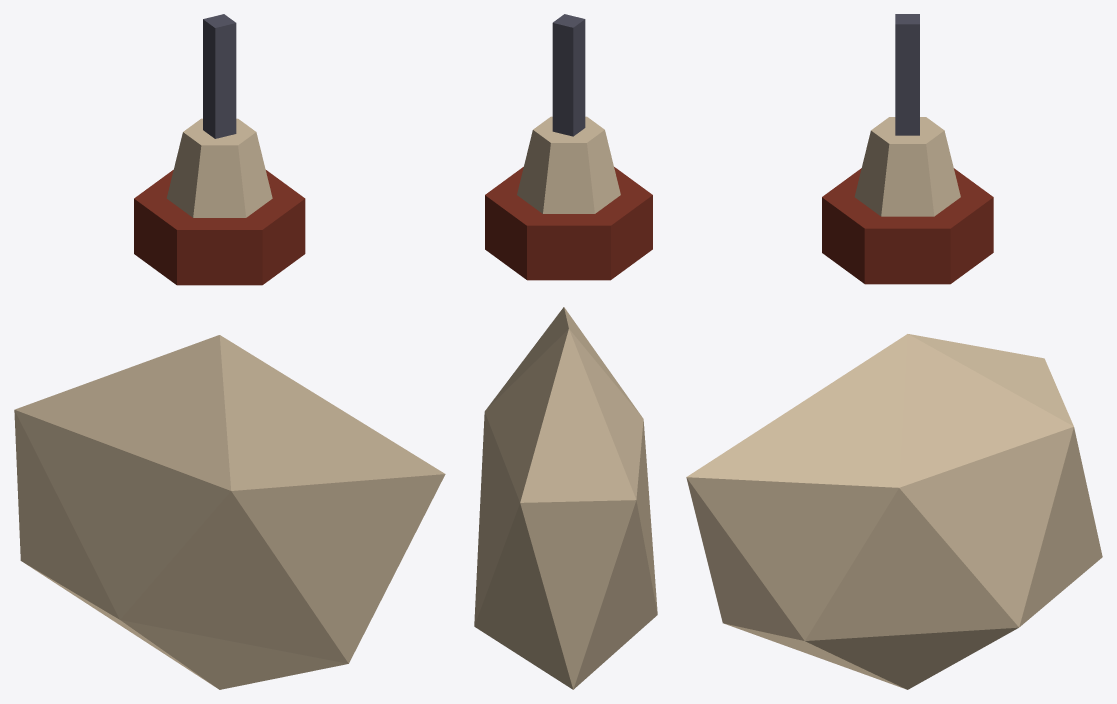
Rendered from ember_sign_wrapped.glb.
3 views of the same model, side by side, from view 1: azimuth 30°, elevation 25°; view 2: azimuth 150°, elevation 25°; view 3: azimuth 270°, elevation 25° (orthographic). The views are drawn at different scales.
Parts seen in each view (by area): view 1: driftwood_l15, coal_d30, ink_l25; view 2: driftwood_l15, coal_d30, ink_l25; view 3: driftwood_l15, coal_d30, ink_l25.
Part boxes in pixels (left/top/right/bottom): driftwood_l15: left=14, top=118, right=445, bottom=689; coal_d30: left=134, top=170, right=305, bottom=285; ink_l25: left=203, top=14, right=236, bottom=138; driftwood_l15: left=474, top=116, right=657, bottom=689; coal_d30: left=485, top=167, right=652, bottom=280; ink_l25: left=552, top=14, right=585, bottom=136; driftwood_l15: left=686, top=117, right=1102, bottom=689; coal_d30: left=822, top=168, right=993, bottom=284; ink_l25: left=895, top=14, right=919, bottom=135.
Bounding box in the file's own units: 0.2383 × 0.6031 × 0.3393.
